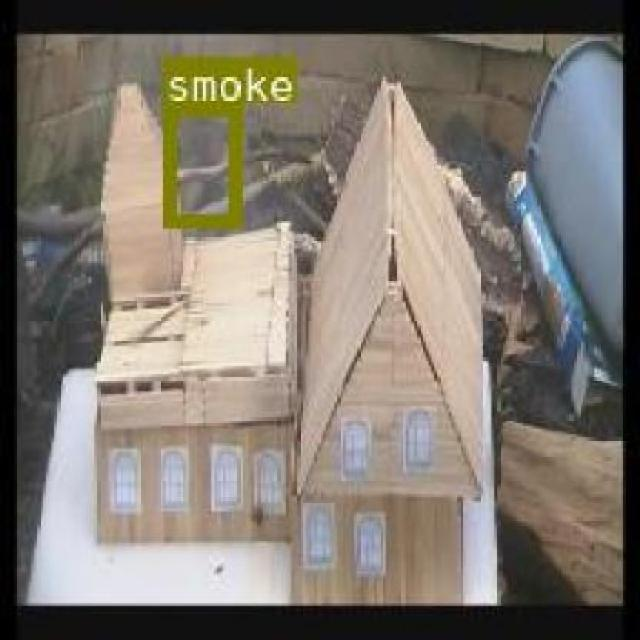Smoke: (162, 102, 238, 224)
